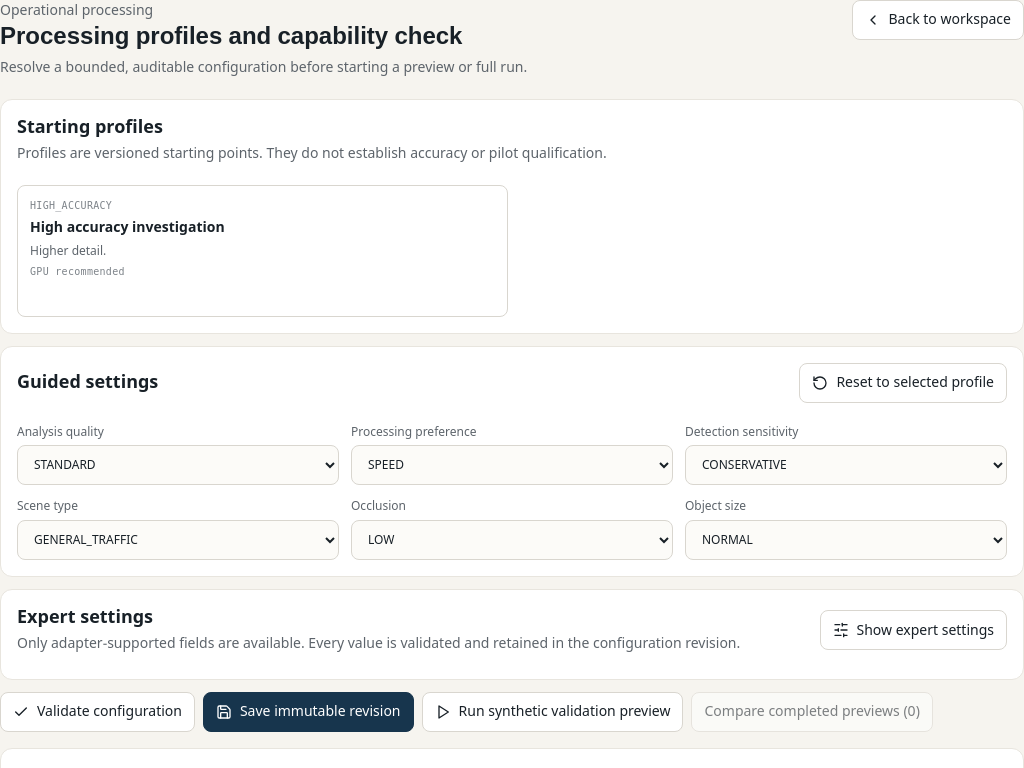
Test: operational settings workspace › shows a selected profile baseline and clears expert overrides on reset
Click the button "High accuracy investigation": (71, 205) x1=17 y1=185 x2=508 y2=317
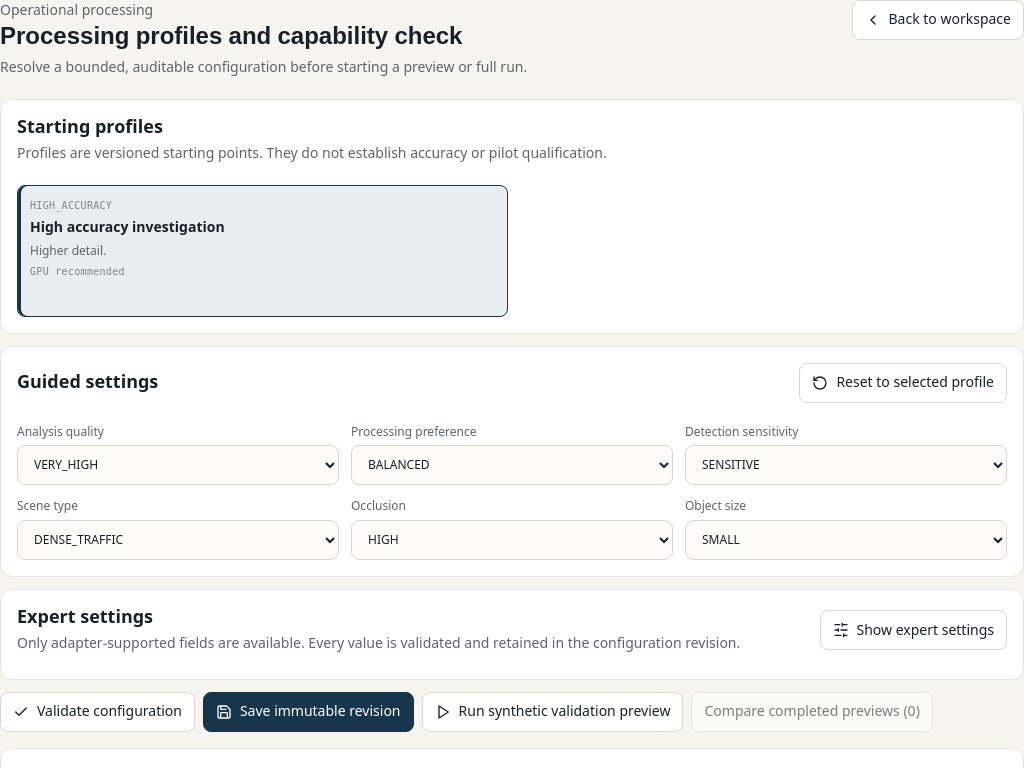
Result: the dropdown labelled "Analysis quality" shows "VERY_HIGH" at x1=17 y1=445 x2=339 y2=485
Click the button "Show expert settings": (913, 630) x1=820 y1=610 x2=1007 y2=650
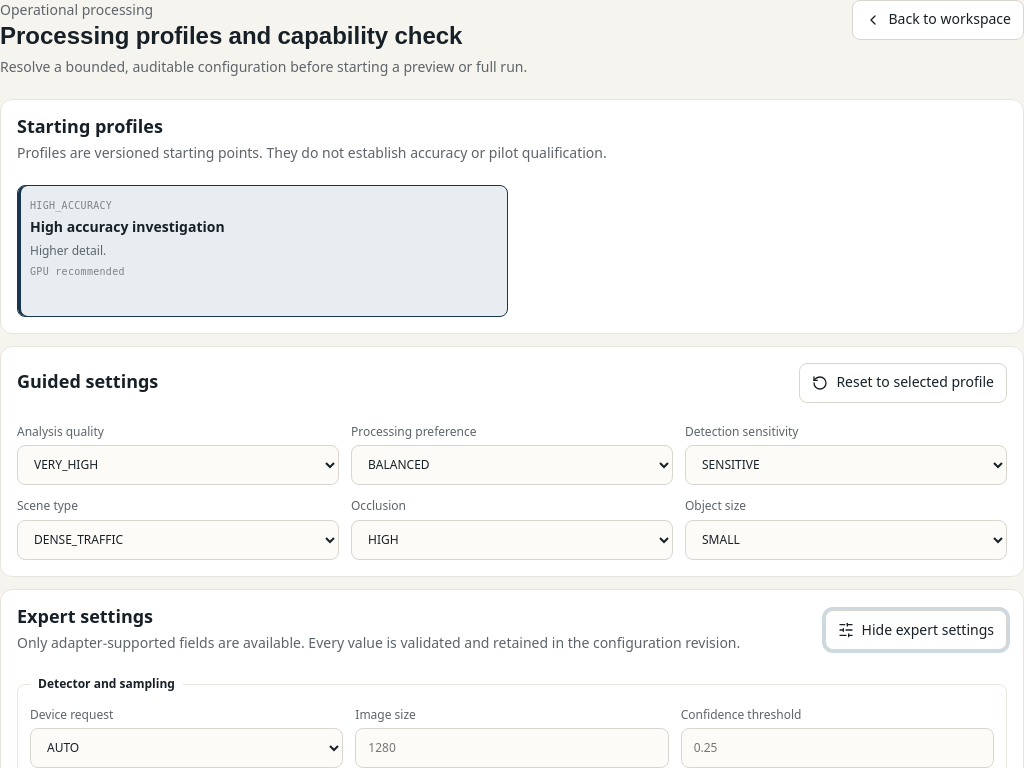
In the number field labelled "Image size": (512, 748) x1=355 y1=728 x2=669 y2=767, type "1536"
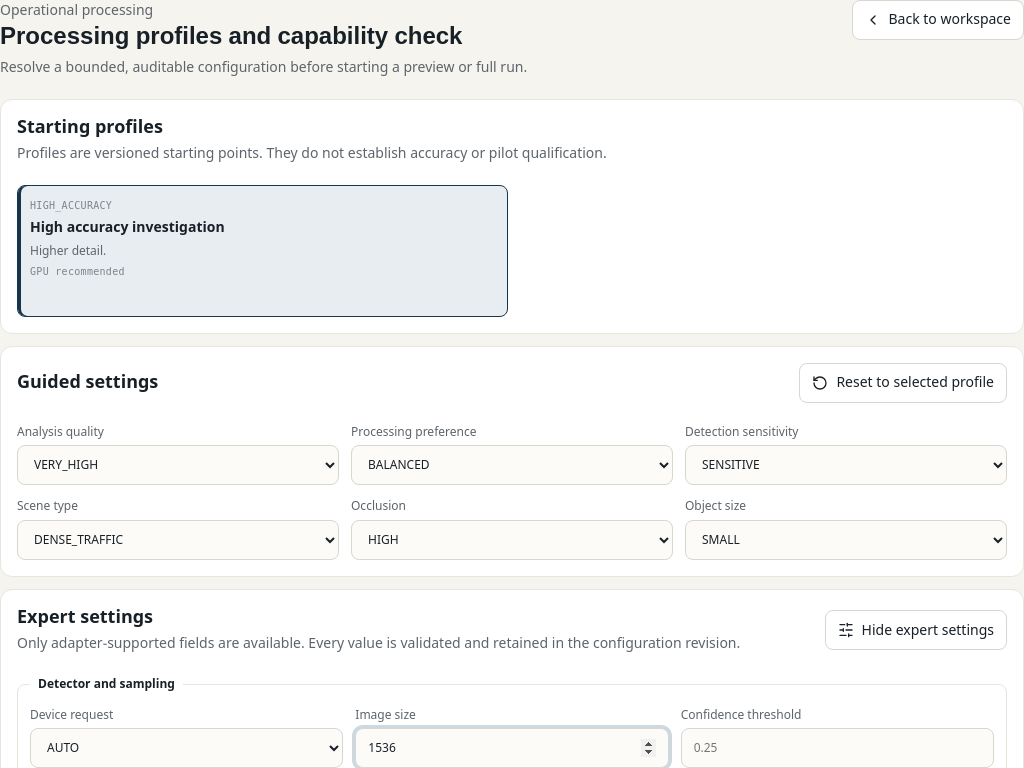
Click the button "Reset to selected profile": (903, 383) x1=799 y1=363 x2=1007 y2=403
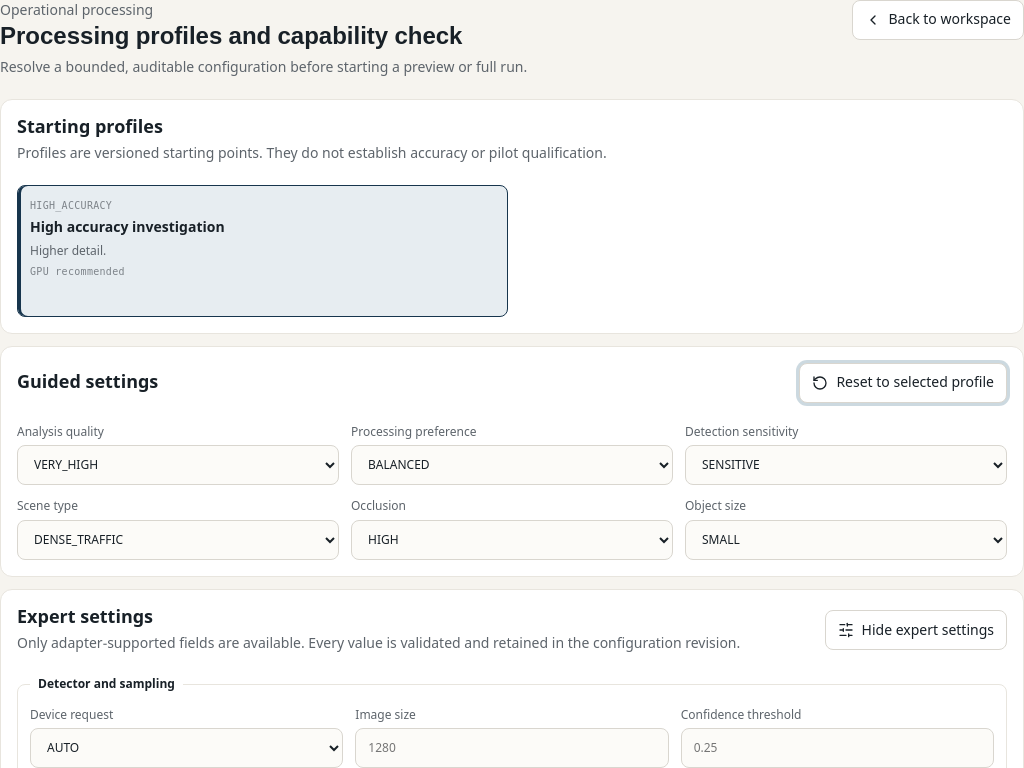
Result: the dropdown labelled "Analysis quality" shows "VERY_HIGH" at x1=17 y1=445 x2=339 y2=485
Result: the number field labelled "Image size" is empty at x1=355 y1=728 x2=669 y2=767
